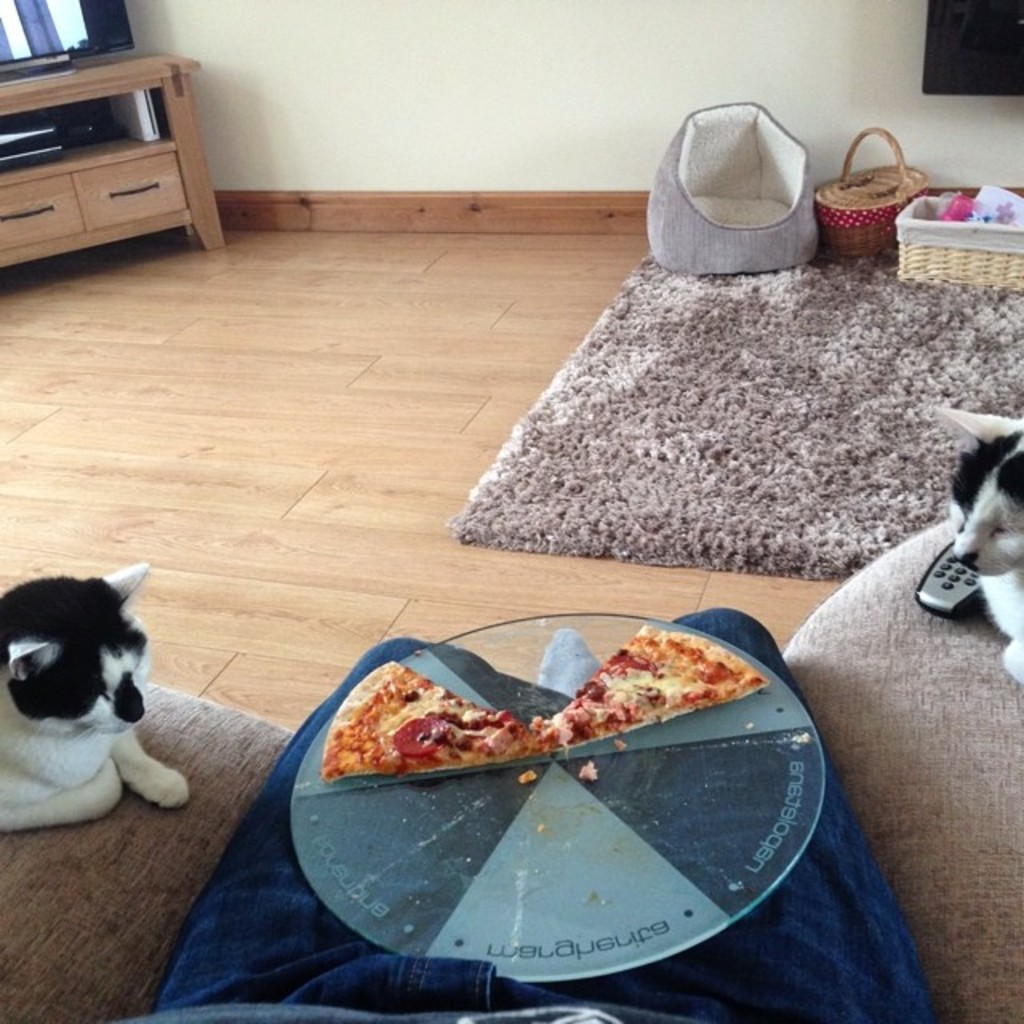Pizza: (323, 651, 548, 780), (550, 643, 769, 734)
